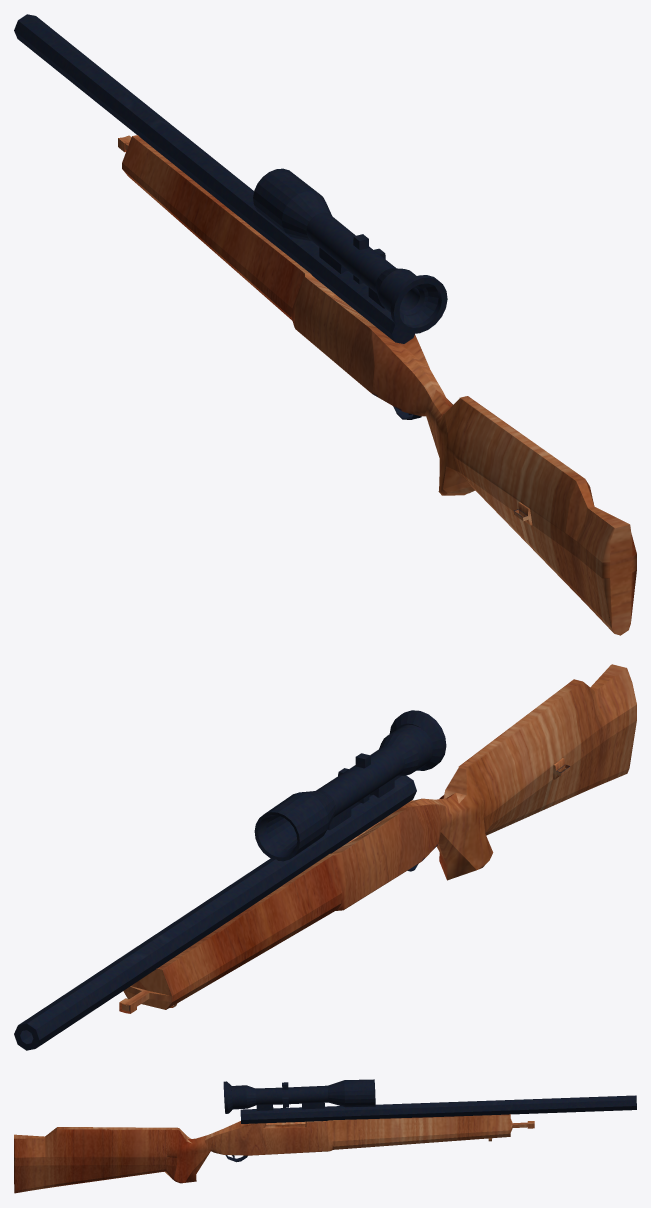
Rendered from sniper_color.fbx.
The picture shows the model from 3 angles, top to bottom: view 1: azimuth 30°, elevation 25°; view 2: azimuth 150°, elevation 25°; view 3: azimuth 270°, elevation 25°; orthographic projection. The views are drawn at different scales.
Visible parts, largest first — view 1: sniper; view 2: sniper; view 3: sniper.
Part boxes in pixels (x1=…): sniper: x1=14, y1=14, x2=636, y2=635; sniper: x1=14, y1=664, x2=636, y2=1050; sniper: x1=14, y1=1079, x2=636, y2=1193.
Size of the model in its own units: 0.4326 by 1.65 by 8.27.
